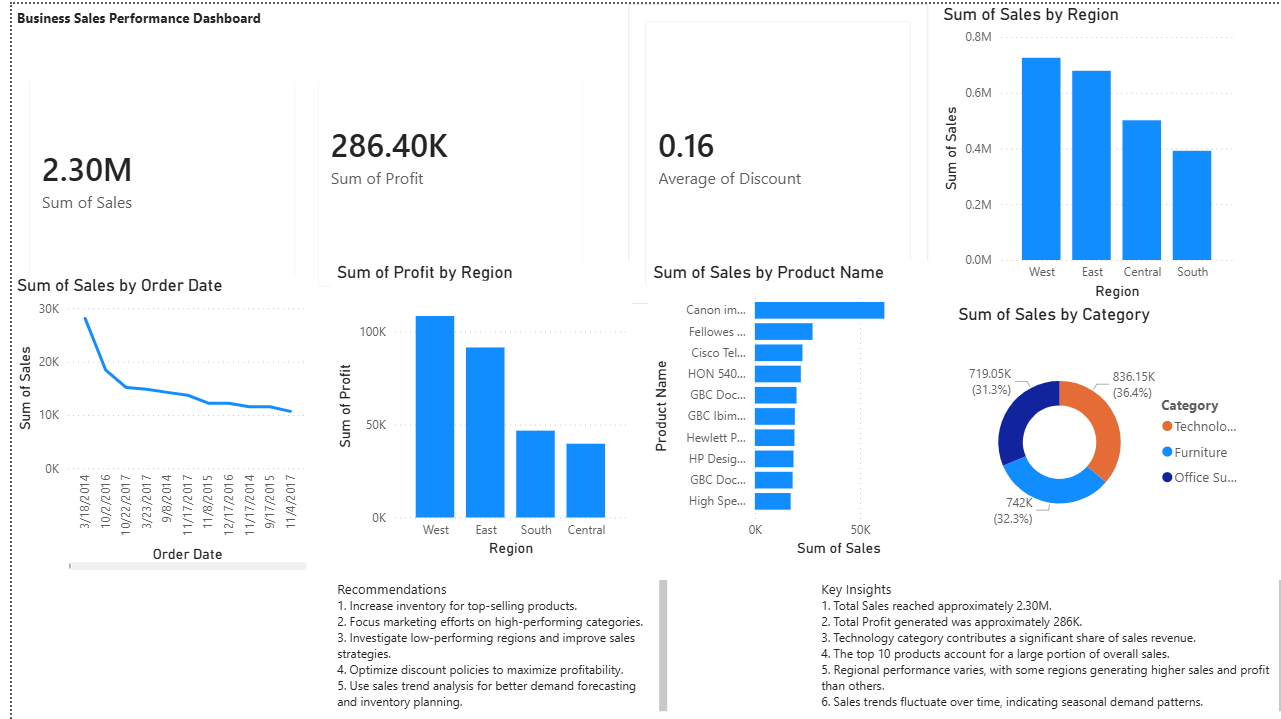

The page's visual inventory and layout, read from the dashboard file:
{"tool":"powerbi","page":{"name":"Page 1","canvas":[1280,720],"ordinal":0},"visuals":[{"type":"cardVisual","fields":{"Data":["Sum(Sample - Superstore (3).Sales)"]},"box":[0,23.8,300,300],"z":2},{"type":"cardVisual","fields":{"Data":["Sum(Sample - Superstore (3).Profit)"]},"box":[288.3,0,300,300],"z":3},{"type":"cardVisual","fields":{"Data":["Avg(Sample - Superstore (3).Discount)"]},"box":[615.7,0,300,300],"z":4},{"type":"lineChart","fields":{"Category":["Sample - Superstore (3).Order Date"],"Y":["Sum(Sample - Superstore (3).Sales)"]},"box":[0,271.2,300,300],"z":5},{"type":"donutChart","fields":{"Category":["Sample - Superstore (3).Category"],"Y":["Sum(Sample - Superstore (3).Sales)"]},"box":[941.2,300,300,257.5],"z":6},{"type":"clusteredBarChart","fields":{"Category":["Sample - Superstore (3).Product Name"],"Y":["Sum(Sample - Superstore (3).Sales)"]},"box":[636.2,257.5,290,300],"z":7},{"type":"columnChart","fields":{"Category":["Sample - Superstore (3).Region"],"Y":["Sum(Sample - Superstore (3).Sales)"]},"box":[926,0,300,300],"z":8},{"type":"clusteredColumnChart","fields":{"Category":["Sample - Superstore (3).Region"],"Y":["Sum(Sample - Superstore (3).Profit)"]},"box":[320,257.5,300,300],"z":9},{"type":"textbox","box":[803.8,571.2,476.2,148.8],"z":10},{"type":"textbox","box":[320,571.2,340,148.8],"z":11},{"type":"textbox","box":[0,0,572.5,77.5],"z":12}]}

Visuals, with their boxes in screenshot pixels (x1, y1, x2, y2), scaled from the page's 1280x720 canvas onto the 1281x719 screenshot:
cardVisual - Sum(Sample - Superstore (3).Sales): Rect(0, 24, 300, 323)
cardVisual - Sum(Sample - Superstore (3).Profit): Rect(289, 0, 589, 300)
cardVisual - Avg(Sample - Superstore (3).Discount): Rect(616, 0, 916, 300)
lineChart - Sample - Superstore (3).Order Date x Sum(Sample - Superstore (3).Sales): Rect(0, 271, 300, 570)
donutChart - Sample - Superstore (3).Category x Sum(Sample - Superstore (3).Sales): Rect(942, 300, 1242, 557)
clusteredBarChart - Sample - Superstore (3).Product Name x Sum(Sample - Superstore (3).Sales): Rect(637, 257, 927, 557)
columnChart - Sample - Superstore (3).Region x Sum(Sample - Superstore (3).Sales): Rect(927, 0, 1227, 300)
clusteredColumnChart - Sample - Superstore (3).Region x Sum(Sample - Superstore (3).Profit): Rect(320, 257, 620, 557)
textbox: Rect(804, 570, 1280, 718)
textbox: Rect(320, 570, 661, 718)
textbox: Rect(0, 0, 573, 77)
